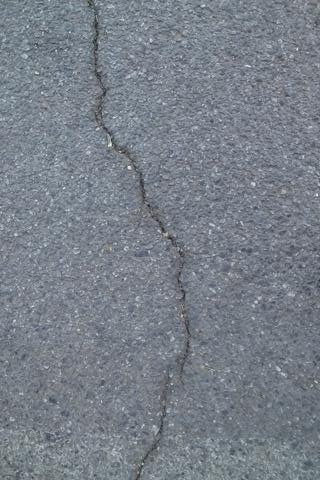A: (85, 1, 197, 480)
